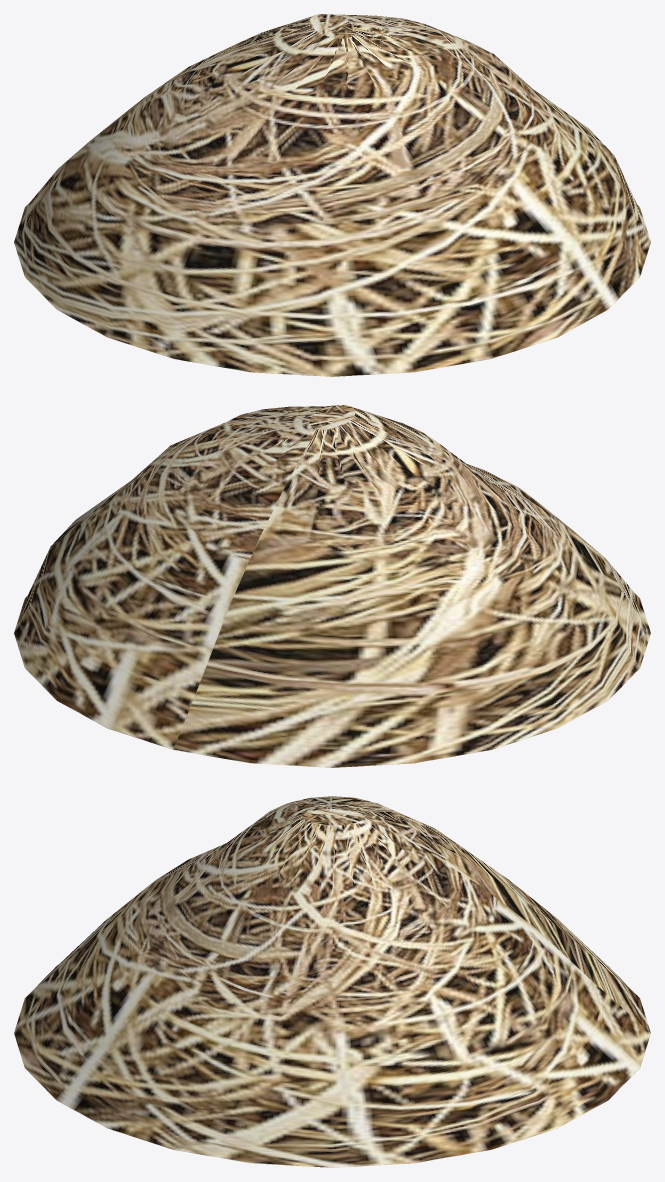
The model's file is hay.fbx.
3 renders of one model, top to bottom at view 1: azimuth 30°, elevation 25°; view 2: azimuth 150°, elevation 25°; view 3: azimuth 270°, elevation 25°, orthographic.
Parts seen in each view (by area): view 1: Cone001; view 2: Cone001; view 3: Cone001.
Boxes of the visible parts, x1,y1,x2,y2 form: Cone001: (14, 14, 650, 376); Cone001: (14, 405, 650, 767); Cone001: (14, 796, 650, 1167).
Size of the model in its own units: 30.1 by 11.26 by 30.1.
